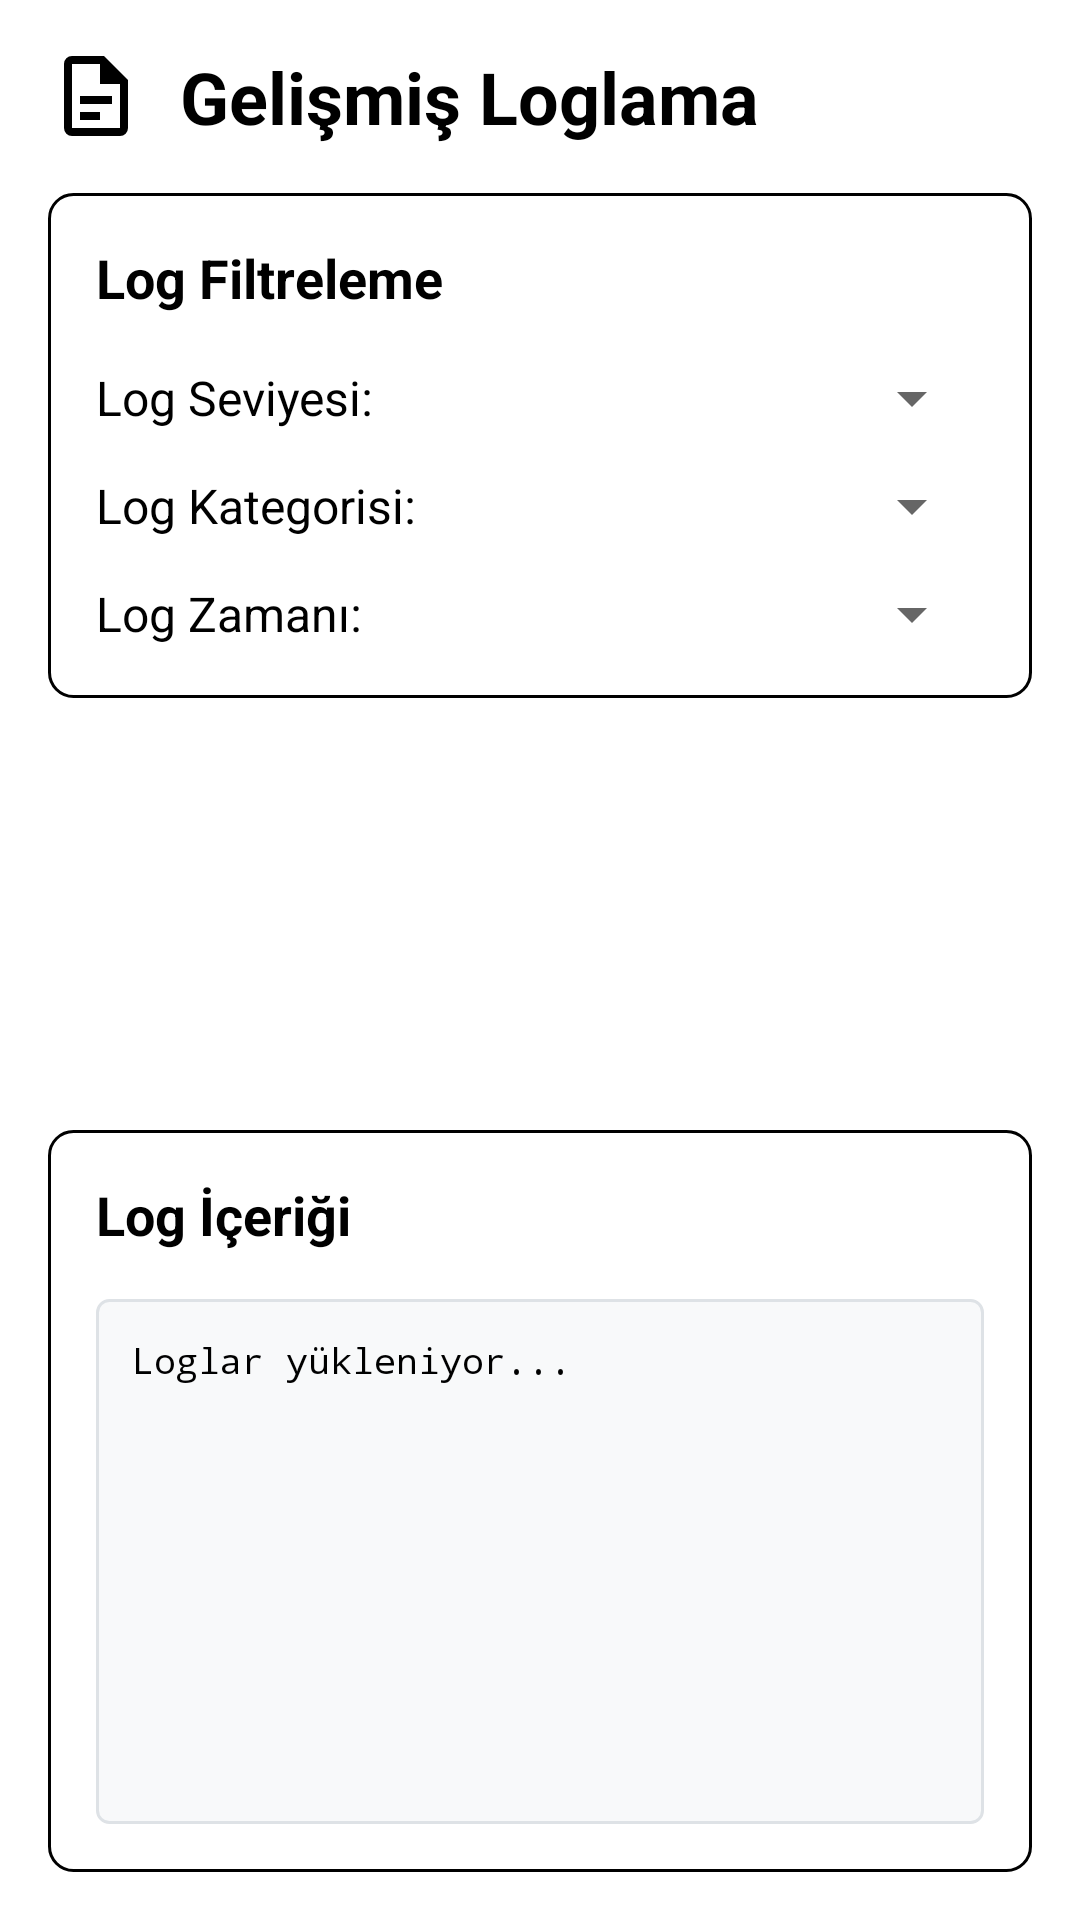

Named icons in this screenshot (1080*1920) and their centers, point (x, y):
Log İkonu: point (96, 96)
